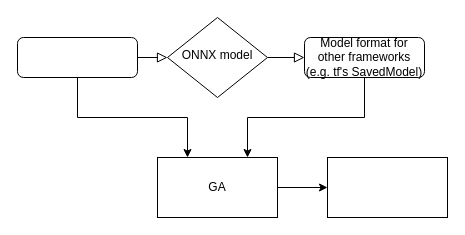
The diagram is 465 pixels wide and 235 high, and some of its shapes have lost their labels. Here are the shapes that lost their labels. From the top down, the box of each, then its label:
(16, 36, 138, 78): PyTorch model
(326, 156, 448, 218): Compute Fitness
